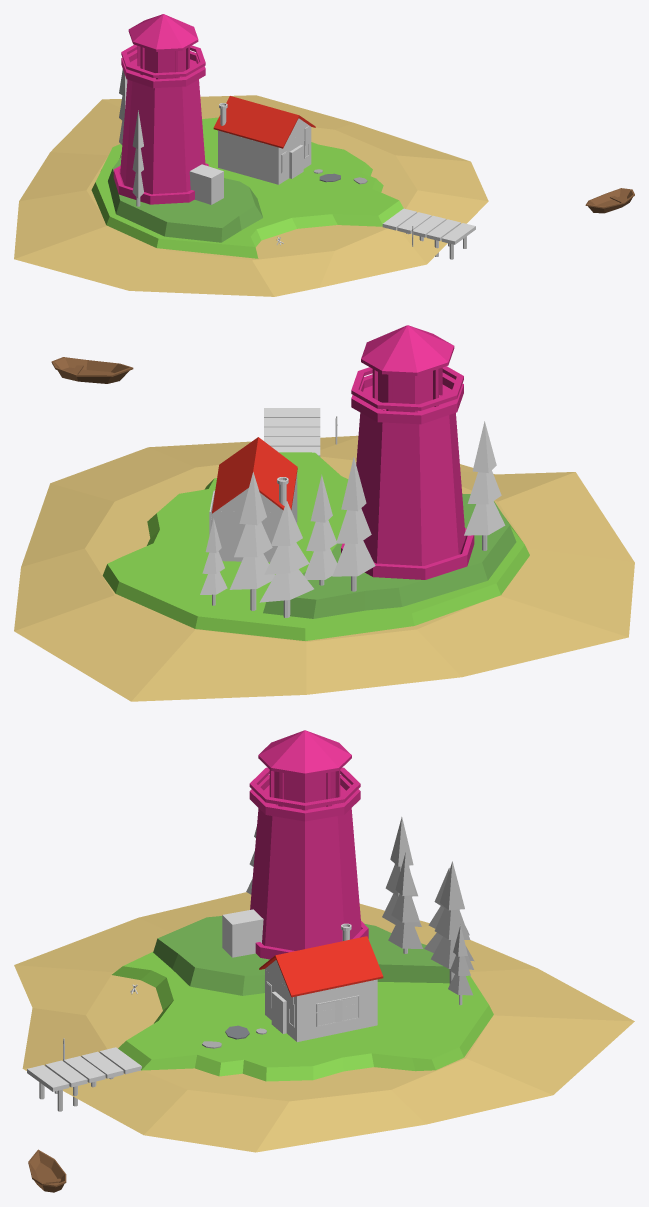
The model's file is light_house_02.glb.
3 renders of one model, top to bottom at view 1: azimuth 30°, elevation 25°; view 2: azimuth 150°, elevation 25°; view 3: azimuth 270°, elevation 25°, orthographic. The views are drawn at different scales.
Visible parts, largest first — view 1: Cylinder, Cylinder.010, Cylinder.001, Cylinder.002, Cube.005, Cube.008, Cube.010*.001, Cylinder.025, Cone.001, Cube.010*, Cube.004; view 2: Cylinder, Cylinder.010, Cylinder.001, Cylinder.002, Cube.008, Cone.002, Cone.003, Cone.004, Cone.001, Cone.005, Cube.005, Cylinder.025 (+6 smaller); view 3: Cylinder, Cylinder.001, Cylinder.010, Cylinder.002, Cube.008, Cube.005, Cone.002, Cone.005, Cube.010*.001, Cone.004, Cylinder.025, Cone (+1 smaller).
Boxes of the visible parts, x1=… form: Cylinder: x1=14, y1=95, x2=488, y2=296; Cylinder.010: x1=113, y1=14, x2=208, y2=204; Cylinder.001: x1=91, y1=117, x2=403, y2=258; Cylinder.002: x1=108, y1=153, x2=262, y2=242; Cube.005: x1=218, y1=127, x2=311, y2=184; Cube.008: x1=213, y1=96, x2=315, y2=148; Cube.010*.001: x1=189, y1=164, x2=223, y2=204; Cylinder.025: x1=585, y1=188, x2=634, y2=213; Cone.001: x1=132, y1=110, x2=143, y2=206; Cube.010*: x1=289, y1=145, x2=303, y2=178; Cube.004: x1=441, y1=223, x2=475, y2=244; Cylinder: x1=14, y1=435, x2=634, y2=701; Cylinder.010: x1=341, y1=325, x2=474, y2=579; Cylinder.001: x1=102, y1=452, x2=529, y2=640; Cylinder.002: x1=263, y1=494, x2=516, y2=618; Cube.008: x1=212, y1=437, x2=297, y2=513; Cone.002: x1=229, y1=472, x2=274, y2=610; Cone.003: x1=259, y1=501, x2=313, y2=617; Cone.004: x1=332, y1=457, x2=375, y2=591; Cone.001: x1=464, y1=421, x2=505, y2=550; Cone.005: x1=304, y1=474, x2=337, y2=585; Cube.005: x1=212, y1=472, x2=297, y2=562; Cylinder.025: x1=51, y1=357, x2=133, y2=383; Cylinder: x1=14, y1=892, x2=634, y2=1152; Cylinder.001: x1=112, y1=952, x2=493, y2=1081; Cylinder.010: x1=249, y1=730, x2=368, y2=959; Cylinder.002: x1=153, y1=916, x2=449, y2=995; Cube.008: x1=259, y1=936, x2=383, y2=997; Cube.005: x1=265, y1=969, x2=377, y2=1041; Cone.002: x1=431, y1=861, x2=473, y2=984; Cone.005: x1=388, y1=852, x2=422, y2=953; Cube.010*.001: x1=222, y1=909, x2=263, y2=957; Cone.004: x1=382, y1=817, x2=421, y2=926; Cylinder.025: x1=28, y1=1149, x2=66, y2=1192; Cone: x1=448, y1=925, x2=472, y2=1005.
Size of what is drawn, in the model's own units: 108 by 41.39 by 90.02.
